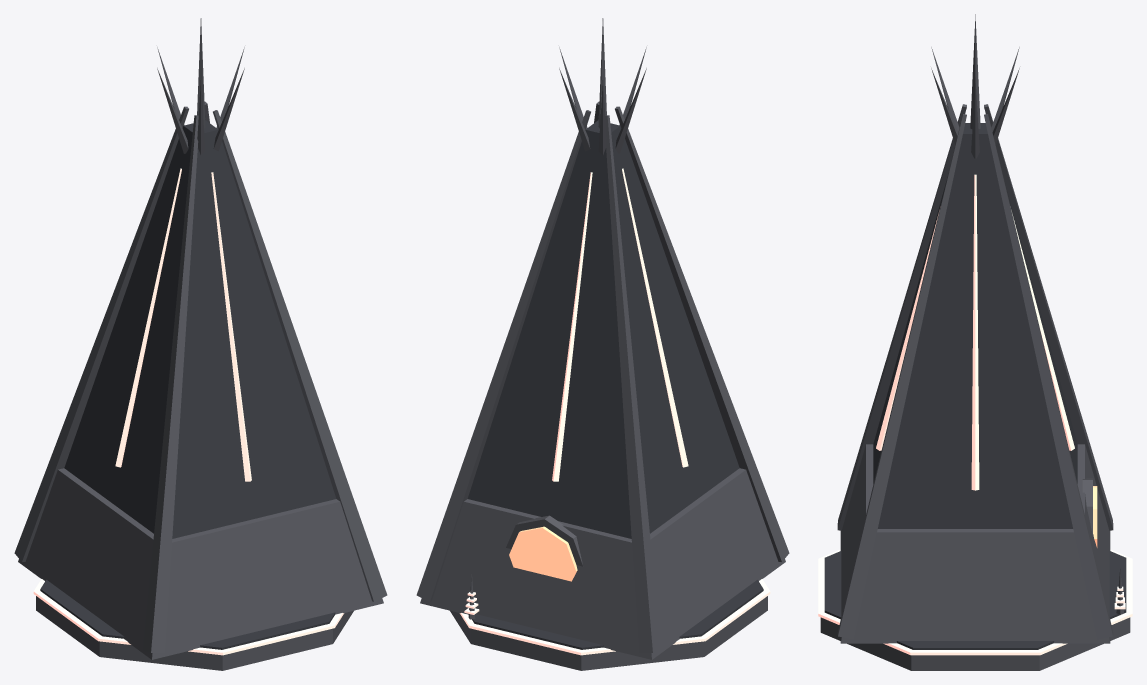
Rendered from zone_high_3_t4.glb.
3 renders of one model, left to right at view 1: azimuth 30°, elevation 25°; view 2: azimuth 150°, elevation 25°; view 3: azimuth 270°, elevation 25°, orthographic.
Visible parts, largest first — view 1: zone_high_3_t4; view 2: zone_high_3_t4; view 3: zone_high_3_t4.
Part boxes in pixels (x1=…): zone_high_3_t4: x1=14, y1=18, x2=387, y2=670; zone_high_3_t4: x1=416, y1=18, x2=789, y2=670; zone_high_3_t4: x1=818, y1=14, x2=1132, y2=670.
Size of the model in its own units: 27.35 by 56.81 by 27.35.
